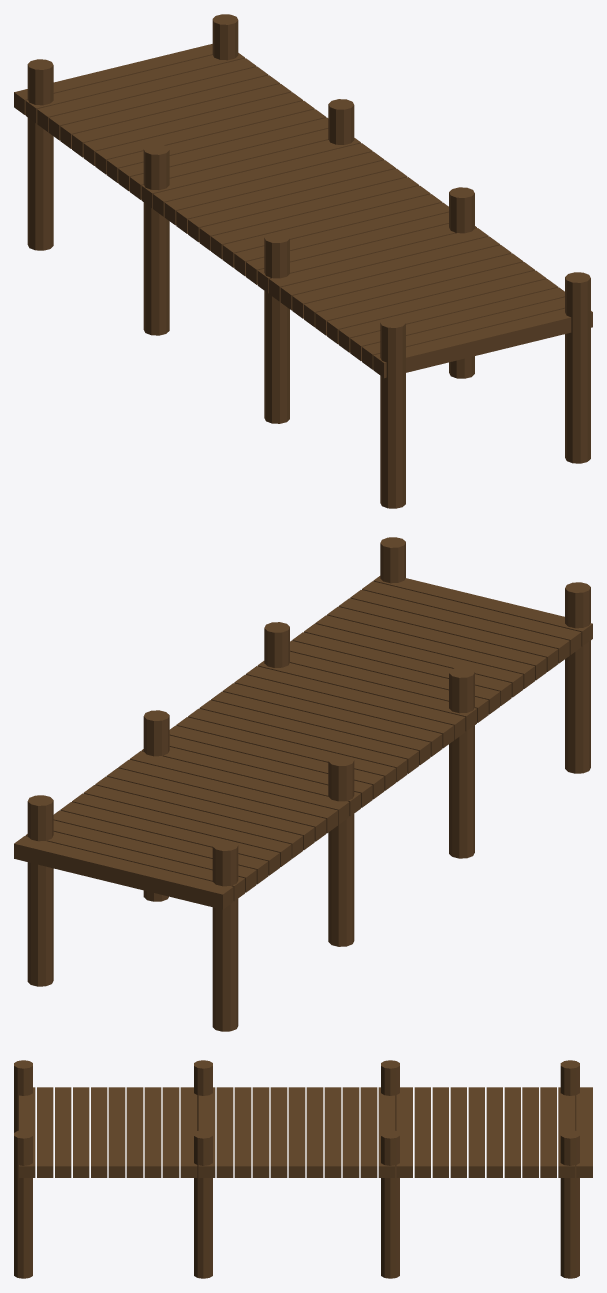
Rendered from TimberPier.obj.
3 renders of one model, top to bottom at view 1: azimuth 30°, elevation 25°; view 2: azimuth 150°, elevation 25°; view 3: azimuth 270°, elevation 25°, orthographic. The views are drawn at different scales.
Parts seen in each view (by area): view 1: wood; view 2: wood; view 3: wood.
Boxes of the visible parts, x1,y1,x2,y2 form: wood: (14, 14, 592, 508); wood: (14, 537, 592, 1031); wood: (14, 1060, 592, 1278).
Bounding box in the file's own units: 2.6 × 2.15 × 8.05.
